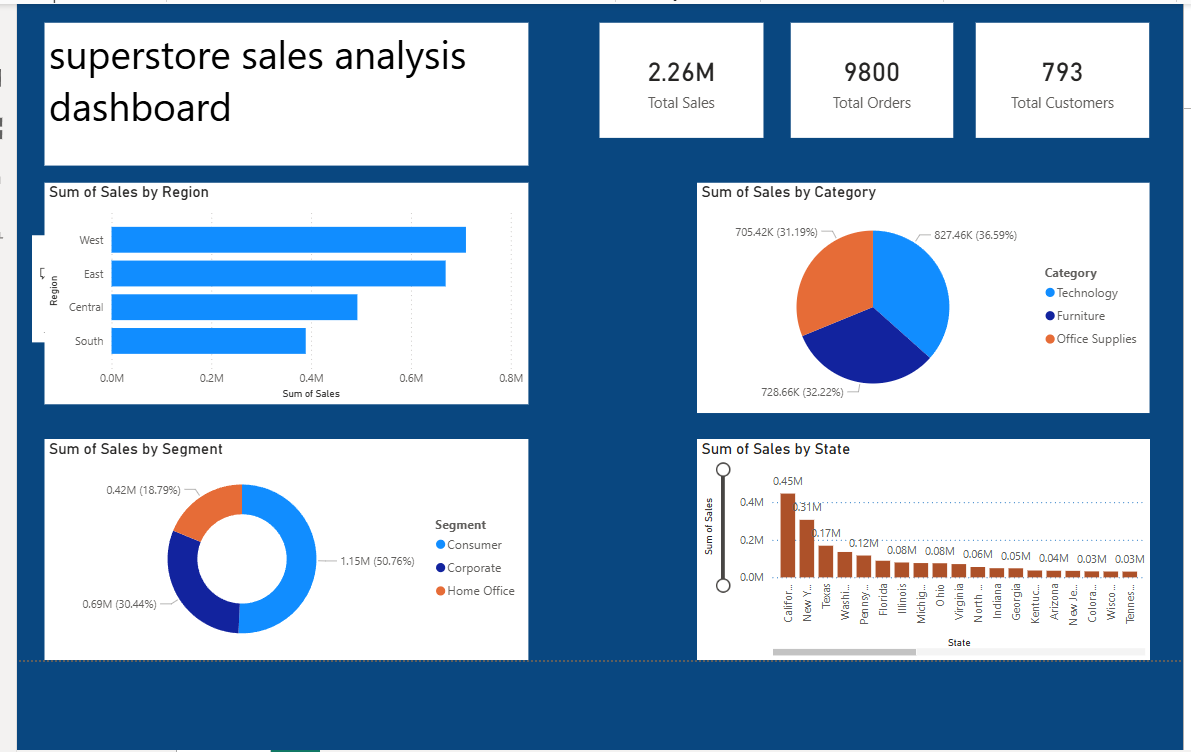

What the dashboard file says about the page in this screenshot:
{"tool":"powerbi","page":{"name":"Page 1","canvas":[1280,720],"ordinal":0},"visuals":[{"type":"qnaVisual","box":[17.1,254.3,178.5,117.4],"z":0},{"type":"card","fields":{"Values":["superstore.Total Sales"]},"box":[639.5,20.6,179.8,126.2],"z":1000},{"type":"card","fields":{"Values":["superstore.Total Orders"]},"box":[849.4,20.6,178.4,126.2],"z":2000},{"type":"card","fields":{"Values":["superstore.Total Customers"]},"box":[1052.5,20.6,190.7,126.2],"z":3000},{"type":"clusteredBarChart","fields":{"Category":["superstore.Region"],"Y":["Sum(superstore.Sales)"]},"box":[30.2,196.2,531,242.9],"z":4000},{"type":"pieChart","fields":{"Category":["superstore.Category"],"Y":["Sum(superstore.Sales)"]},"box":[746.5,196.2,496.7,252.5],"z":5000},{"type":"clusteredColumnChart","fields":{"Category":["superstore.State"],"Y":["Sum(superstore.Sales)"]},"box":[746.5,477.5,496.7,242.9],"z":6000},{"type":"donutChart","fields":{"Category":["superstore.Segment"],"Y":["Sum(superstore.Sales)"]},"box":[30.2,477.5,531,242.9],"z":7000},{"type":"textbox","box":[30.2,20.6,531,156.4],"z":7001}]}

Visuals, with their boxes in screenshot pixels (x1, y1, x2, y2):
qnaVisual: bbox=(25, 233, 189, 341)
card - superstore.Total Sales: bbox=(596, 19, 761, 135)
card - superstore.Total Orders: bbox=(789, 19, 952, 135)
card - superstore.Total Customers: bbox=(975, 19, 1150, 135)
clusteredBarChart - superstore.Region x Sum(superstore.Sales): bbox=(37, 180, 524, 403)
pieChart - superstore.Category x Sum(superstore.Sales): bbox=(694, 180, 1150, 412)
clusteredColumnChart - superstore.State x Sum(superstore.Sales): bbox=(694, 438, 1150, 661)
donutChart - superstore.Segment x Sum(superstore.Sales): bbox=(37, 438, 524, 661)
textbox: bbox=(37, 19, 524, 162)
